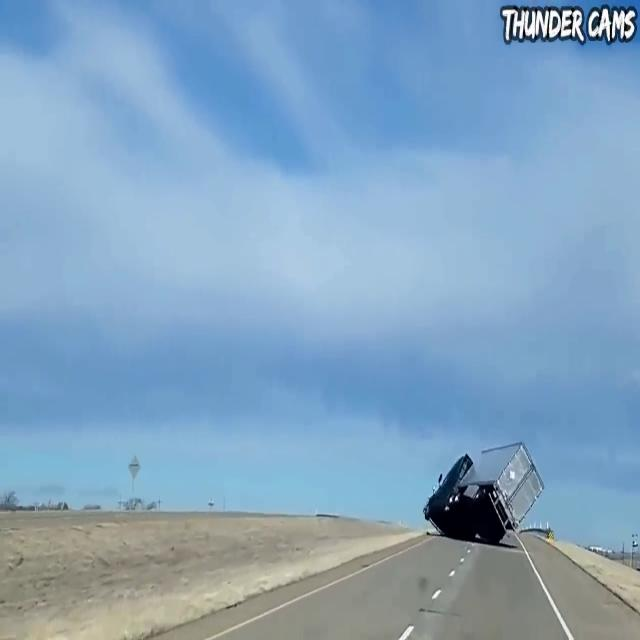accident: (410, 413, 552, 558)
